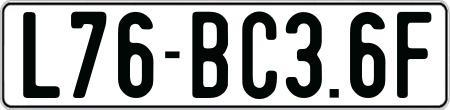3: (285, 9, 321, 96)
6: (118, 12, 158, 99), (350, 11, 388, 100)
7: (71, 12, 107, 102)
B: (189, 12, 225, 104)
C: (241, 12, 276, 102)
F: (394, 11, 432, 97)
L: (20, 9, 59, 97)
